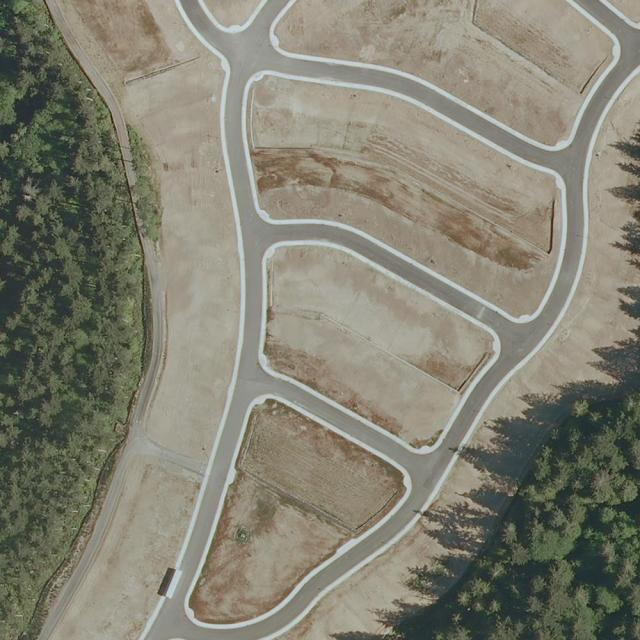dryland: (209, 46, 593, 324), (223, 219, 502, 459), (225, 393, 409, 543), (432, 22, 591, 159), (582, 73, 640, 282), (204, 1, 261, 26)
greenland: (119, 122, 168, 244)
metalled_road: (242, 167, 636, 640), (255, 19, 560, 179), (264, 200, 529, 338), (524, 35, 640, 196), (266, 369, 425, 476)
